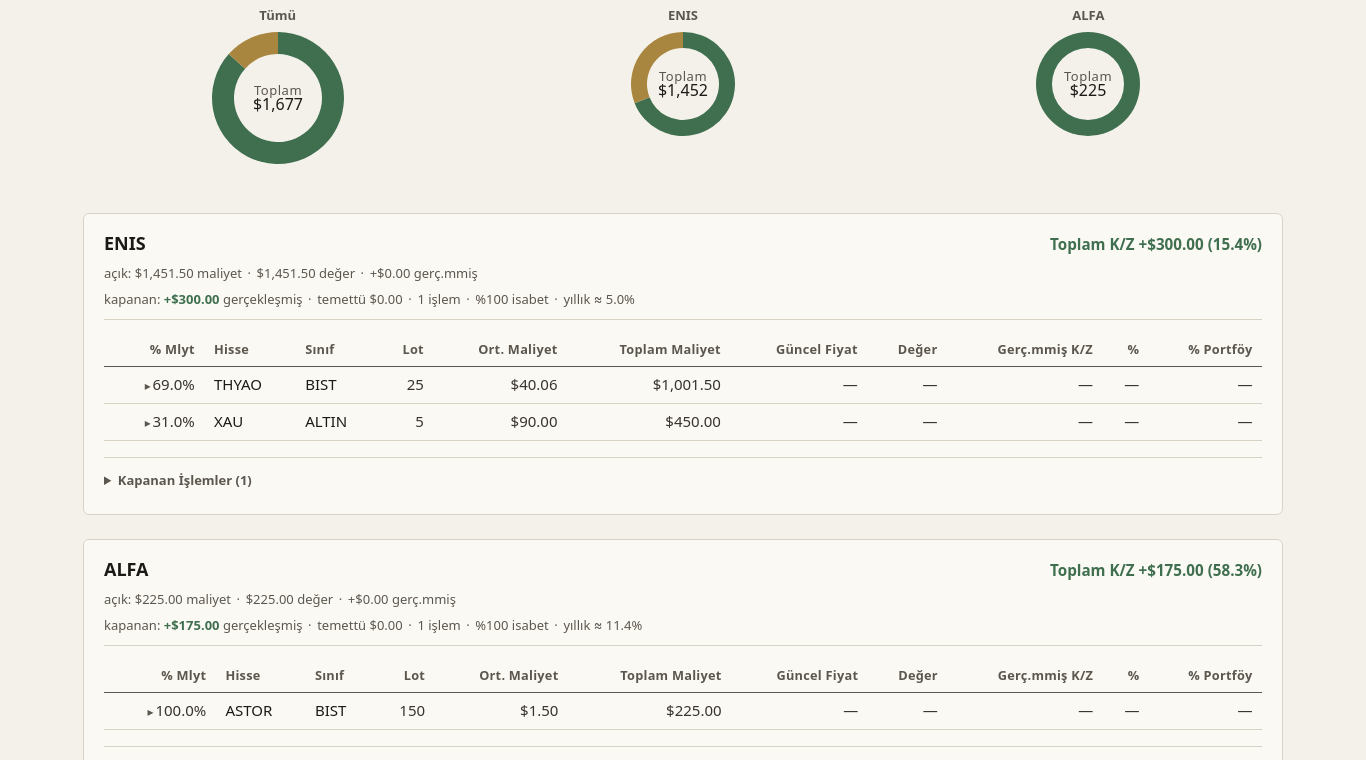
Test: Portfoyler › toggling a row open reveals the broker breakdown detail
The image size is (1366, 760).
(page scrolled)
Check: the text "Kurum Dağılımı" is not shown
Note: Click on THYAO row
Step 1. Click the text "THYAO" → [250, 385], box x1=204 y1=366 x2=296 y2=403
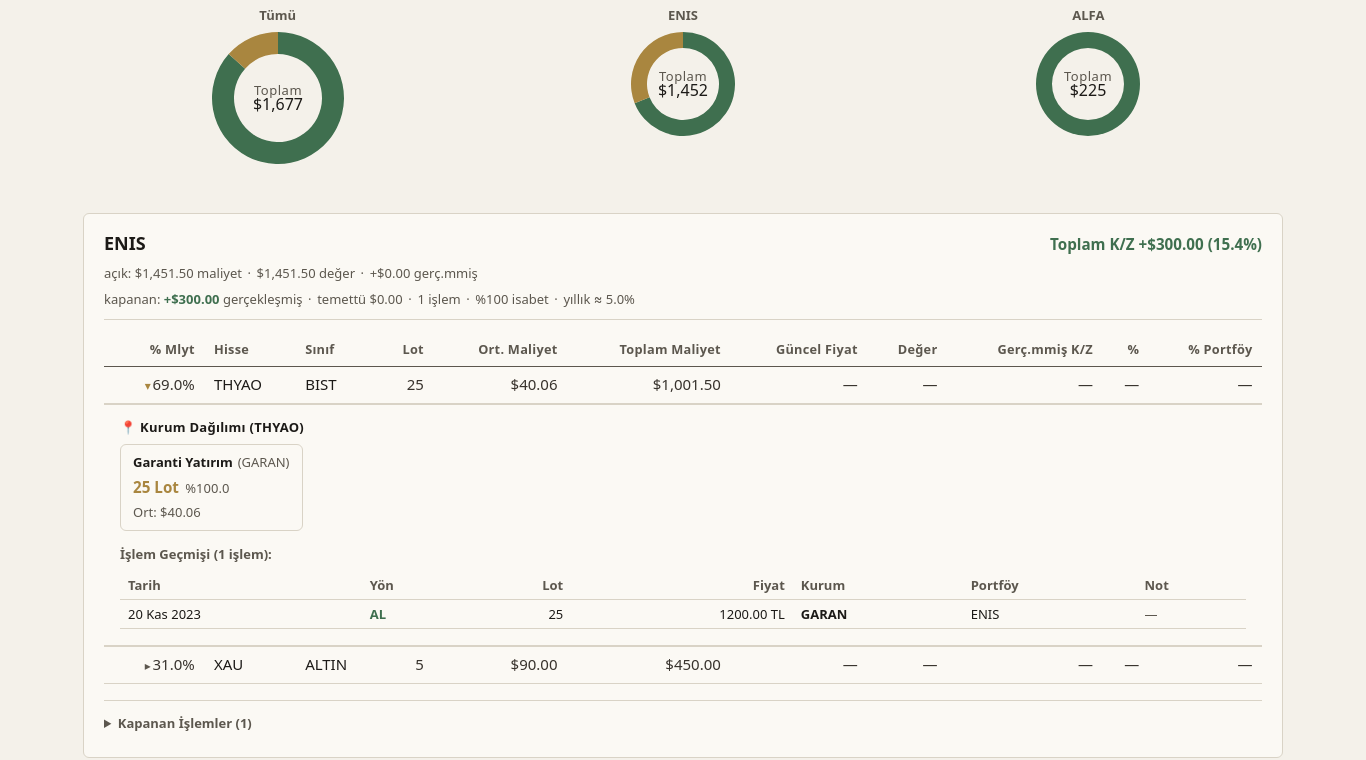
Check: the text "📍 Kurum Dağılımı (THYAO)" is shown, box x1=120 y1=418 x2=304 y2=436
Check: the text "Garanti Yatırım" is shown, box x1=133 y1=452 x2=233 y2=472
